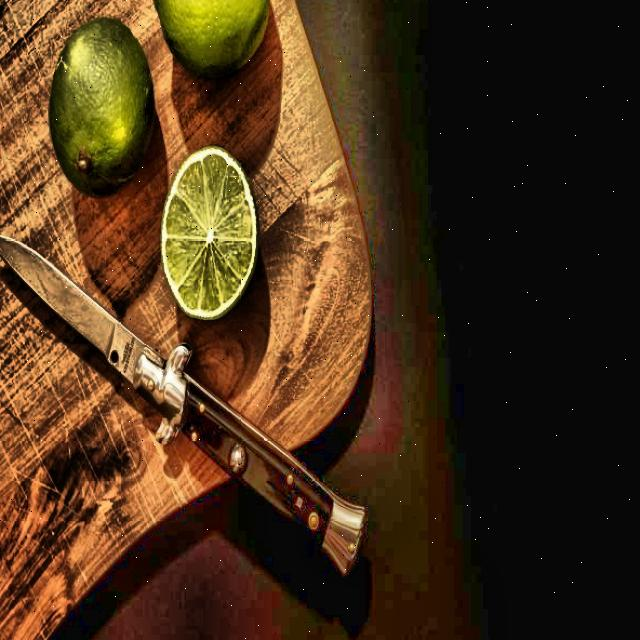knife: (0, 223, 379, 589)
